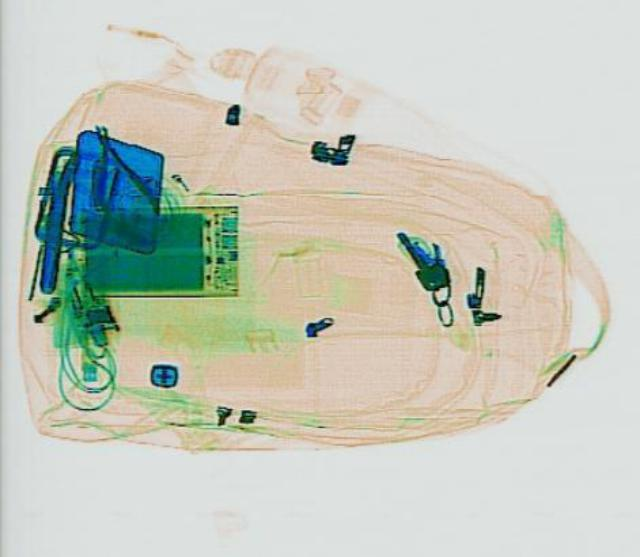Pliers: (70, 116, 158, 223)
